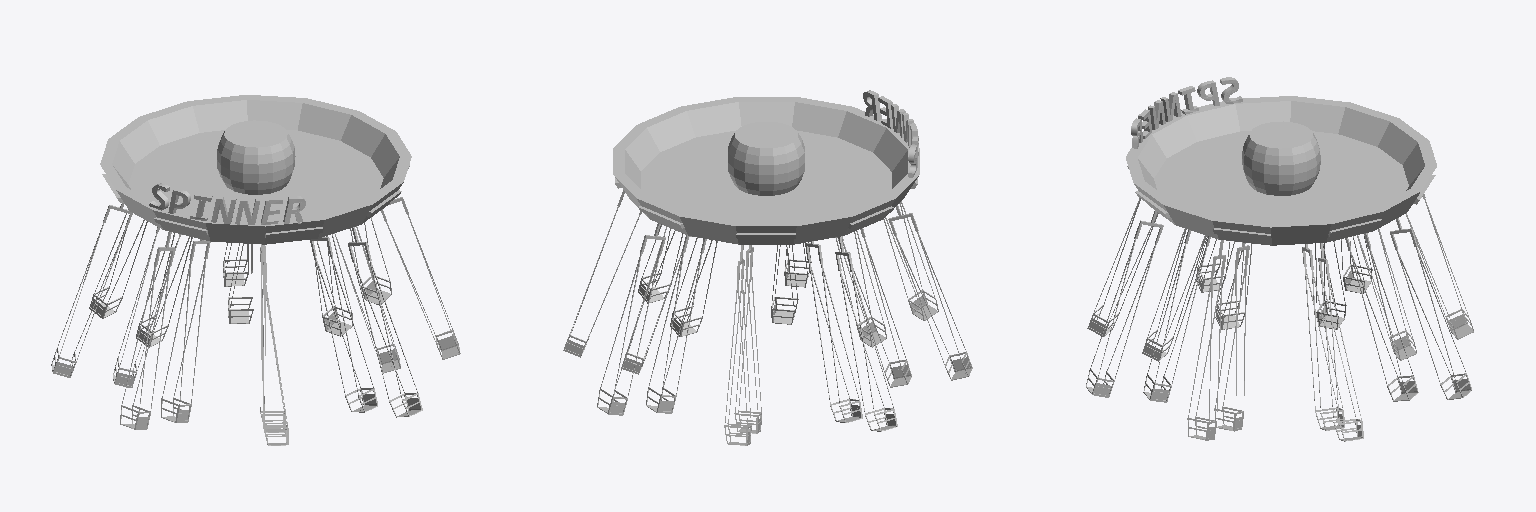
File: sus1.obj
3 renders of one model, left to right at view 1: azimuth 30°, elevation 25°; view 2: azimuth 150°, elevation 25°; view 3: azimuth 270°, elevation 25°, orthographic.
Parts seen in each view (by area): view 1: Cylinder.002, Cylinder.003, Cylinder.004, Cylinder.005, Cylinder.001, Cylinder.006, Cylinder.007; view 2: Cylinder.002, Cylinder.003, Cylinder.004, Cylinder.005, Cylinder.007, Cylinder.006, Cylinder.001, Cylinder.008; view 3: Cylinder.002, Cylinder.003, Cylinder.004, Cylinder.005, Cylinder.001, Cylinder.007, Cylinder.006.
Boxes of the visible parts, <box> form: Cylinder.002: <box>101,95,410,244</box>; Cylinder.003: <box>100,95,411,244</box>; Cylinder.004: <box>51,197,460,445</box>; Cylinder.005: <box>91,209,420,431</box>; Cylinder.001: <box>149,183,305,224</box>; Cylinder.006: <box>137,233,376,421</box>; Cylinder.007: <box>53,215,458,444</box>; Cylinder.002: <box>613,97,919,244</box>; Cylinder.003: <box>613,97,919,244</box>; Cylinder.004: <box>563,190,972,445</box>; Cylinder.005: <box>565,206,971,444</box>; Cylinder.007: <box>599,201,936,430</box>; Cylinder.006: <box>623,227,910,432</box>; Cylinder.001: <box>863,90,918,177</box>; Cylinder.008: <box>638,207,894,238</box>; Cylinder.002: <box>1126,96,1436,245</box>; Cylinder.003: <box>1126,96,1436,245</box>; Cylinder.004: <box>1086,194,1473,441</box>; Cylinder.005: <box>1088,198,1472,440</box>; Cylinder.001: <box>1131,77,1242,148</box>; Cylinder.007: <box>1090,198,1470,438</box>; Cylinder.006: <box>1145,229,1415,429</box>.
Size of the model in its own units: 6.43 by 4.42 by 6.43.